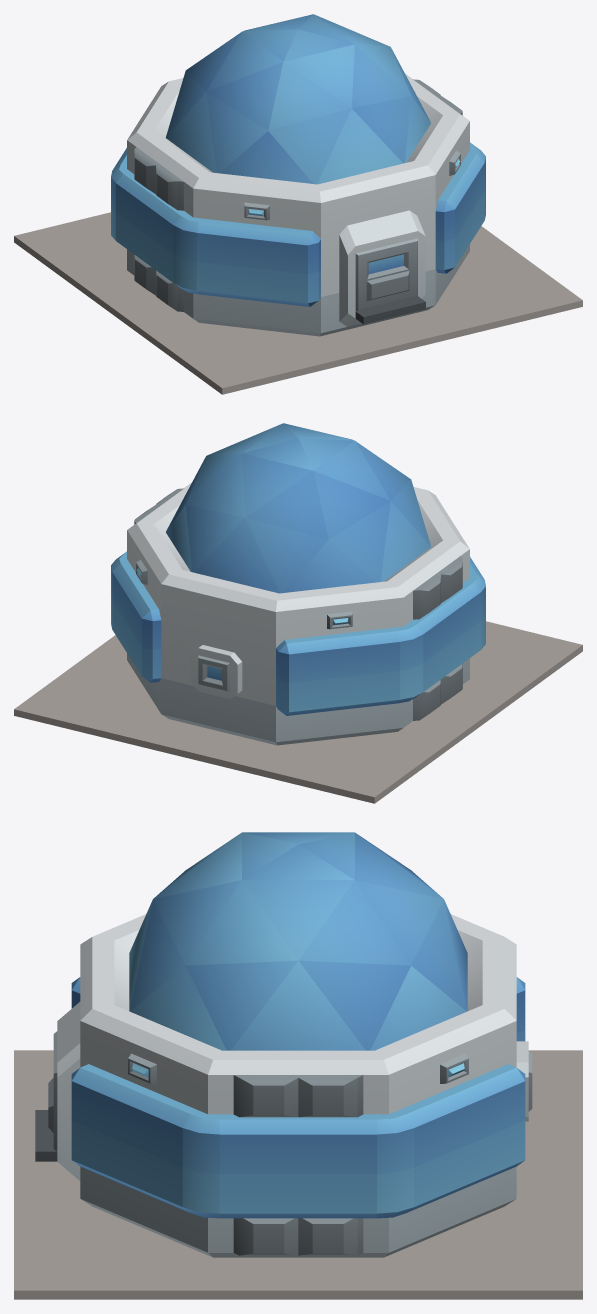
File: space_station_large.glb
The picture shows the model from 3 angles, top to bottom: view 1: azimuth 30°, elevation 25°; view 2: azimuth 150°, elevation 25°; view 3: azimuth 270°, elevation 25°; orthographic projection. The views are drawn at different scales.
Visible parts, largest first — view 1: Spacestation_Large; view 2: Spacestation_Large; view 3: Spacestation_Large.
Part boxes in pixels (x1,y1,x2,y2): Spacestation_Large: (14, 14, 582, 394); Spacestation_Large: (14, 423, 582, 803); Spacestation_Large: (14, 832, 582, 1299).
Size of the model in its own units: 0.58 by 0.3769 by 0.58.
1 material, 1 textured.
